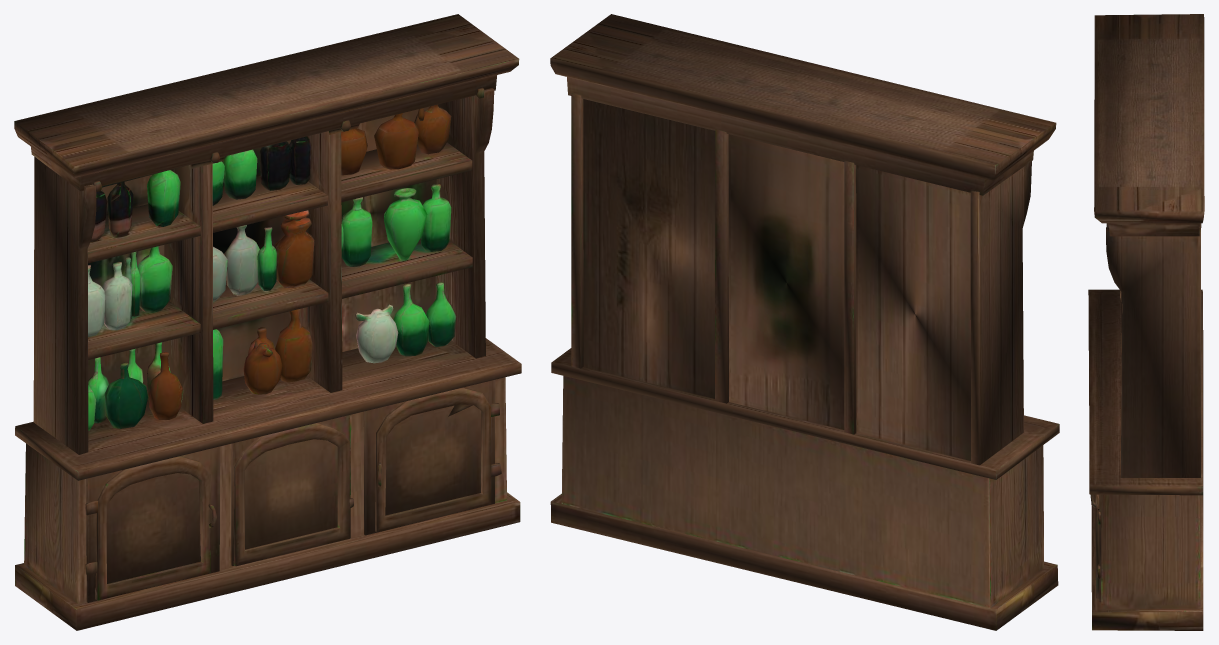
The model's file is back-bar.glb.
3 renders of one model, left to right at view 1: azimuth 30°, elevation 25°; view 2: azimuth 150°, elevation 25°; view 3: azimuth 270°, elevation 25°, orthographic. The views are drawn at different scales.
Size of the model in its own units: 2 by 2 by 0.5.
Materials: 1 (1 with a texture image).
